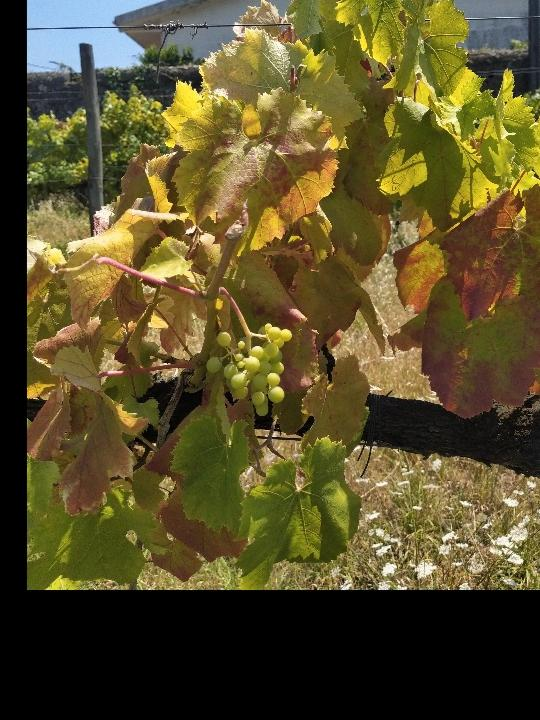grape: (206, 319, 295, 417)
